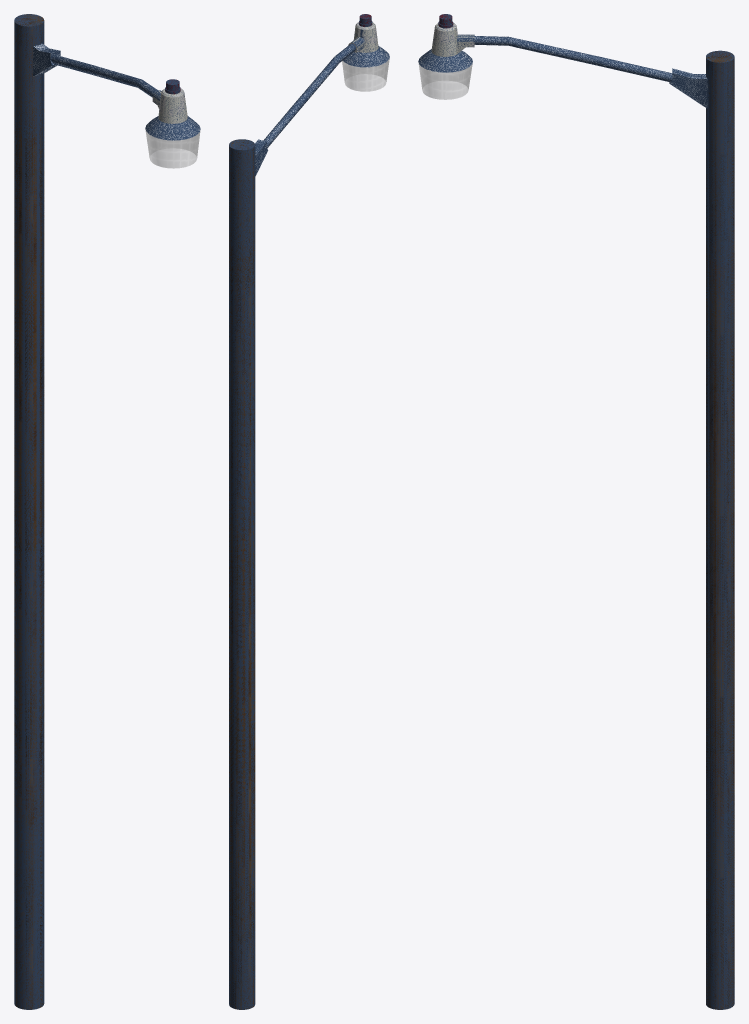
Rendered from ITT-Nema-on-Wooden-Pole.fbx.
3 views of the same model, side by side, from view 1: azimuth 30°, elevation 25°; view 2: azimuth 150°, elevation 25°; view 3: azimuth 270°, elevation 25° (orthographic). The views are drawn at different scales.
Visible parts, largest first — view 1: Group1; view 2: Group1; view 3: Group1.
Boxes of the visible parts, x1=… form: Group1: x1=14, y1=14, x2=200, y2=1009; Group1: x1=229, y1=14, x2=389, y2=1009; Group1: x1=418, y1=14, x2=734, y2=1009.
Bounding box in the file's own units: 15.91 × 328 × 95.13.
